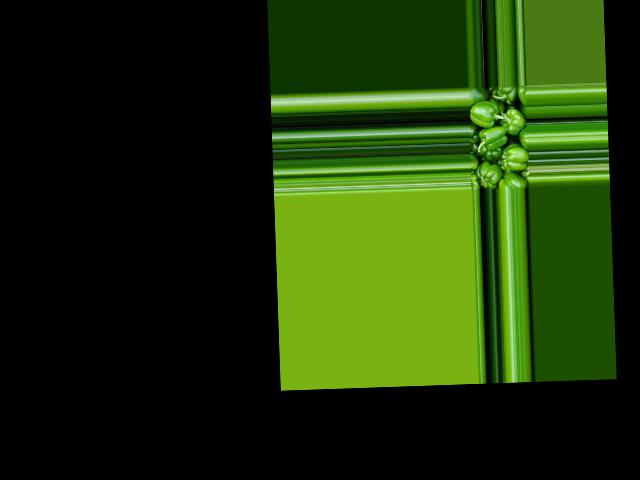bell_pepper: (467, 85, 487, 109)
